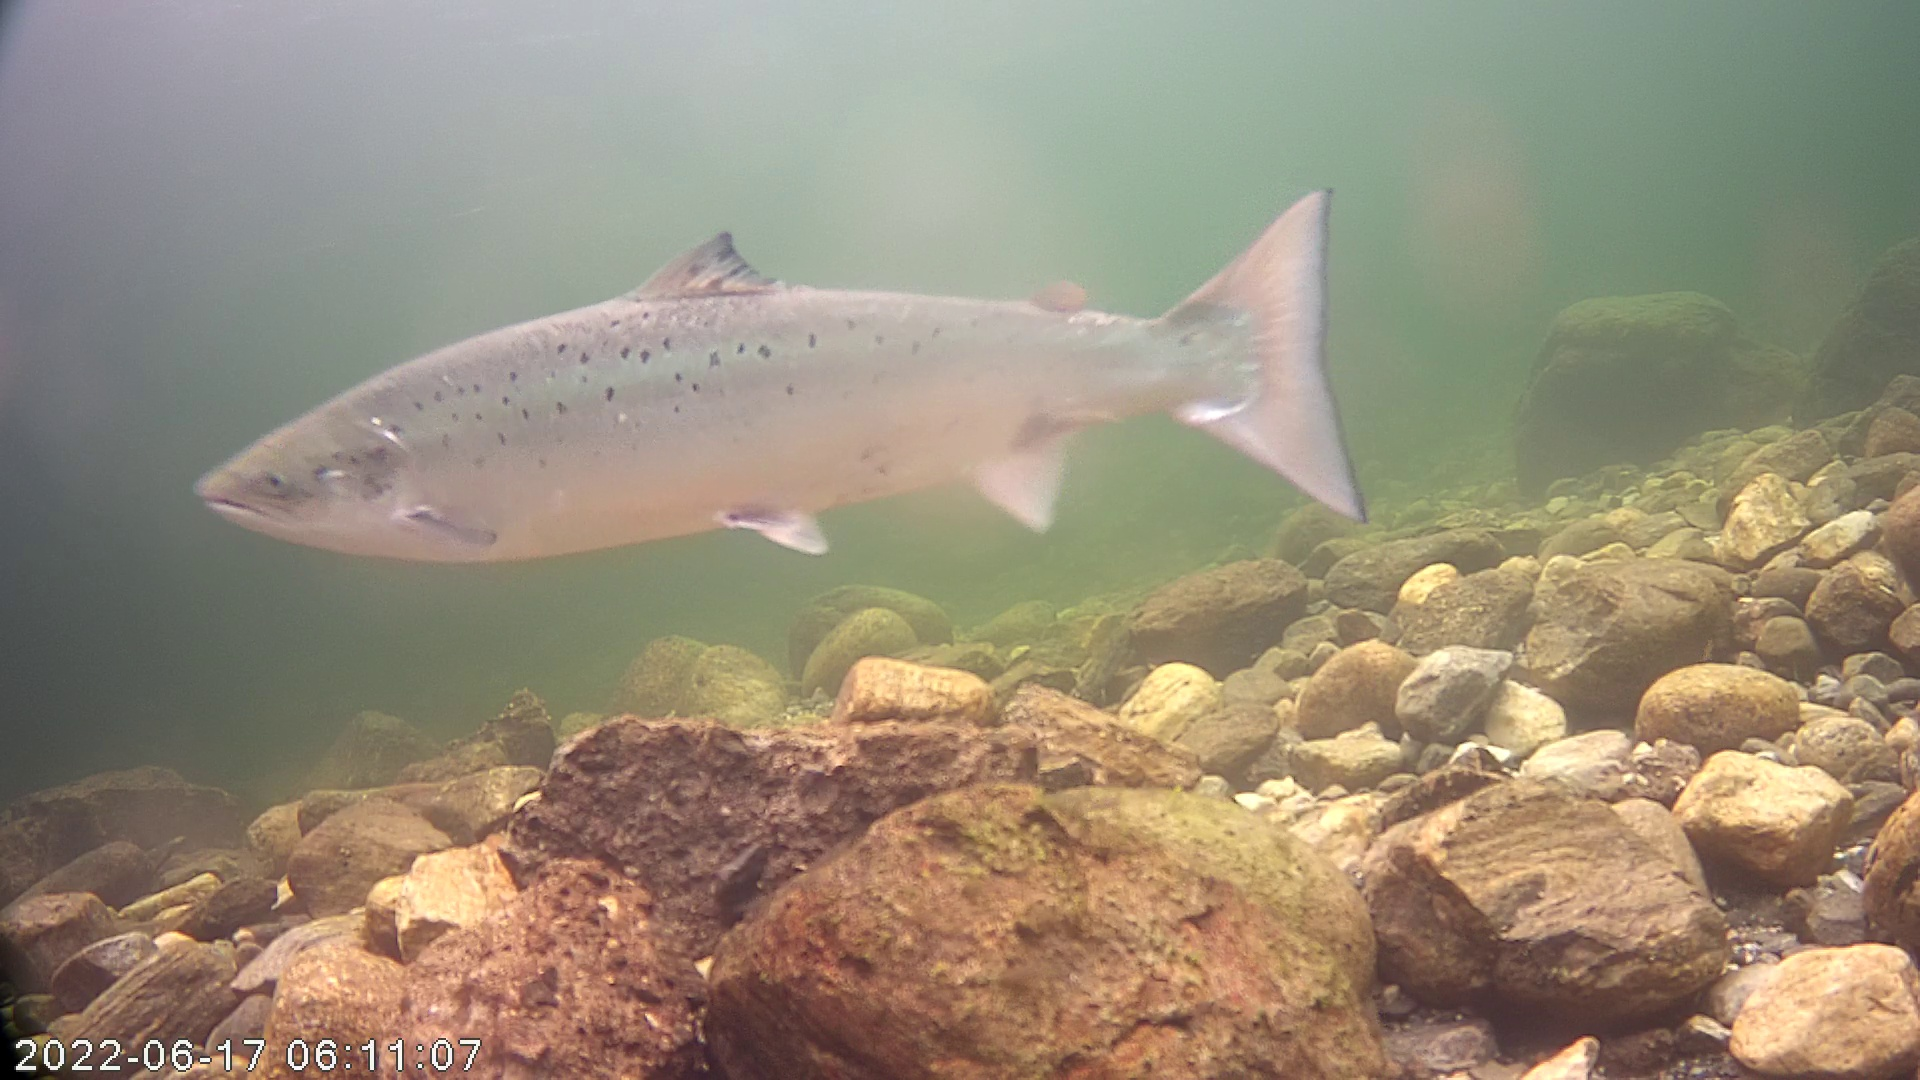salmon: (194, 183, 1367, 568)
